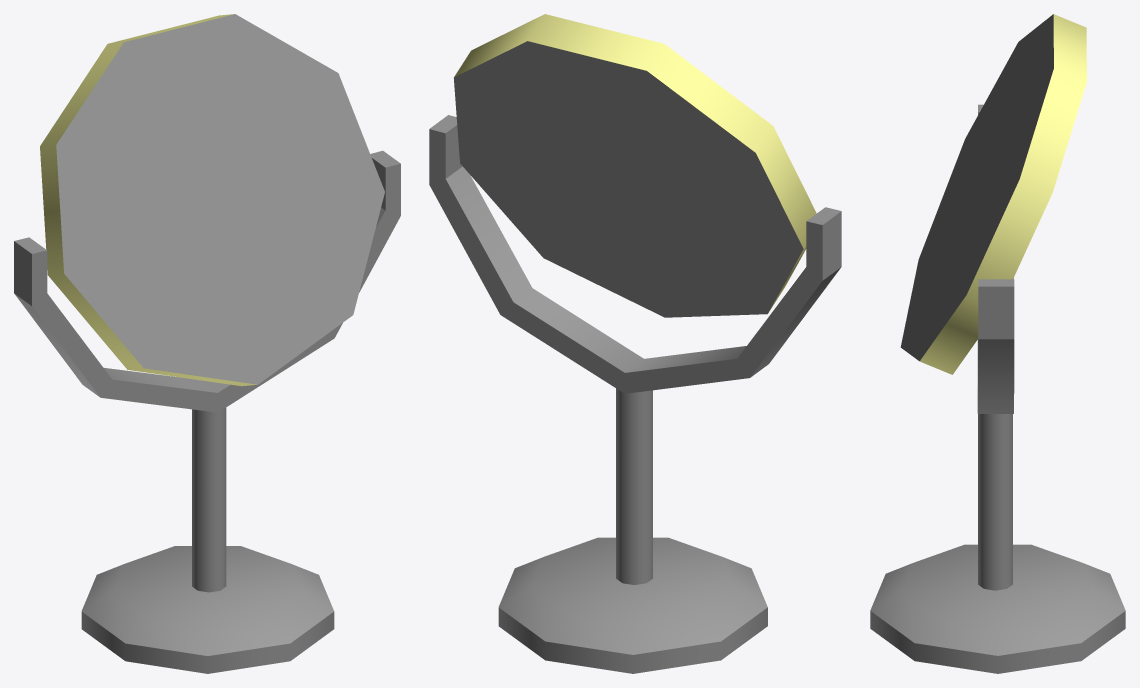
File: MakeupMirror_01.fbx
3 views of the same model, side by side, from view 1: azimuth 30°, elevation 25°; view 2: azimuth 150°, elevation 25°; view 3: azimuth 270°, elevation 25° (orthographic). The views are drawn at different scales.
Parts seen in each view (by area): view 1: MakeupMirror_01; view 2: MakeupMirror_01; view 3: MakeupMirror_01.
Boxes of the visible parts, left/top/right/bottom form: MakeupMirror_01: left=14, top=14, right=400, bottom=673; MakeupMirror_01: left=429, top=14, right=841, bottom=673; MakeupMirror_01: left=870, top=14, right=1125, bottom=673.
Bounding box in the file's own units: 52.08 × 77.13 × 30.89.
